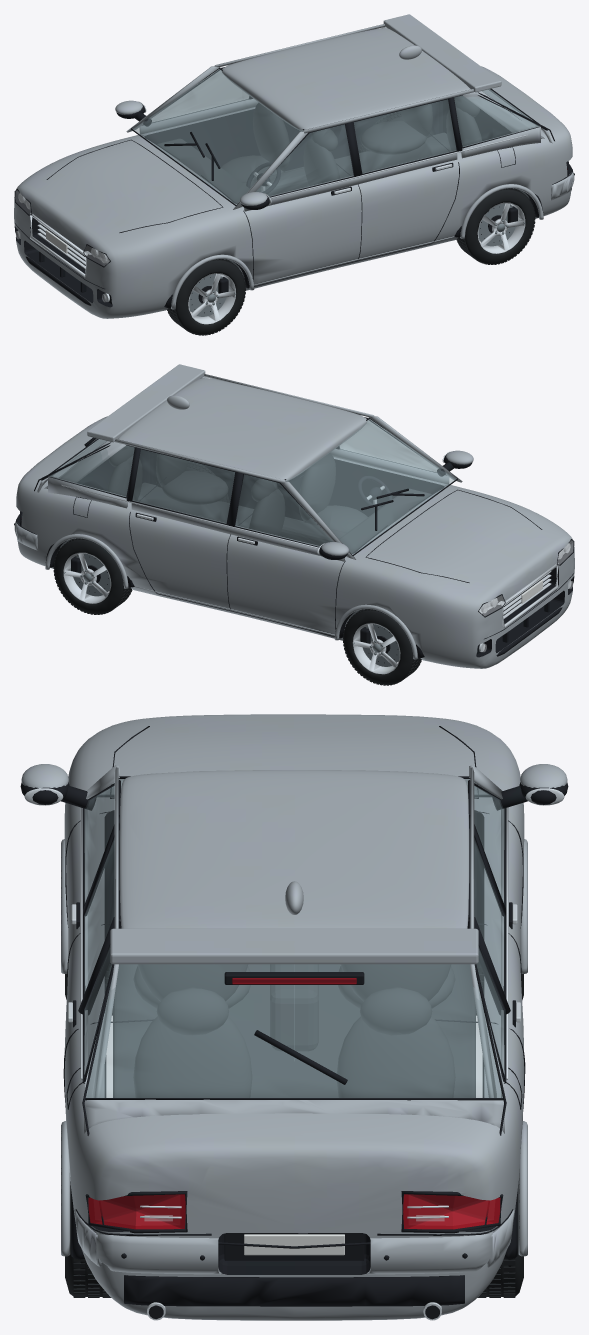
Rendered from hatchback.glb.
The picture shows the model from 3 angles, top to bottom: view 1: azimuth 30°, elevation 25°; view 2: azimuth 150°, elevation 25°; view 3: azimuth 270°, elevation 25°; orthographic projection. The views are drawn at different scales.
Visible parts, largest first — view 1: Aerodynamic mirror painted cap, Front side door glass, Aerodynamic mirror lower housing, Adjustable headrest, 107 reused Sculpted_tyre, 107 reused Alloy_five_spoke_rim, 107 reused Center_cap, Clear reversing lens insert; view 2: Aerodynamic mirror painted cap, Front side door glass, Aerodynamic mirror lower housing, Adjustable headrest, 107 reused Sculpted_tyre, 107 reused Alloy_five_spoke_rim, 107 reused Center_cap, Clear reversing lens insert; view 3: Aerodynamic mirror painted cap, Front side door glass, Adjustable headrest, Aerodynamic mirror lower housing, Flush corner wrapping ruby lamp lens, 107 reused Alloy_five_spoke_rim, 107 reused Sculpted_tyre, Front license plate.
Part boxes in pixels (bbox=[...]): Aerodynamic mirror painted cap: bbox=[14, 14, 574, 318]; Front side door glass: bbox=[133, 69, 539, 204]; Aerodynamic mirror lower housing: bbox=[14, 67, 574, 313]; Adjustable headrest: bbox=[157, 95, 529, 268]; 107 reused Sculpted_tyre: bbox=[167, 111, 535, 335]; 107 reused Alloy_five_spoke_rim: bbox=[17, 101, 527, 324]; 107 reused Center_cap: bbox=[189, 203, 525, 316]; Clear reversing lens insert: bbox=[15, 190, 109, 301]; Aerodynamic mirror painted cap: bbox=[14, 364, 574, 668]; Front side door glass: bbox=[49, 419, 455, 554]; Aerodynamic mirror lower housing: bbox=[14, 417, 574, 663]; Adjustable headrest: bbox=[60, 445, 431, 618]; 107 reused Sculpted_tyre: bbox=[53, 461, 421, 685]; 107 reused Alloy_five_spoke_rim: bbox=[61, 451, 571, 674]; 107 reused Center_cap: bbox=[63, 553, 399, 666]; Clear reversing lens insert: bbox=[479, 540, 573, 651]; Aerodynamic mirror painted cap: bbox=[21, 714, 567, 1320]; Front side door glass: bbox=[84, 779, 504, 1097]; Adjustable headrest: bbox=[113, 964, 475, 1097]; Aerodynamic mirror lower housing: bbox=[20, 726, 568, 1319]; Flush corner wrapping ruby lamp lens: bbox=[88, 978, 500, 1229]; 107 reused Alloy_five_spoke_rim: bbox=[24, 788, 564, 1320]; 107 reused Sculpted_tyre: bbox=[65, 962, 523, 1297]; Front license plate: bbox=[244, 1234, 344, 1255].
Bounding box in the file's own units: 4.26 × 1.59 × 2.12.
Materials: 10 (10 with a texture image).
